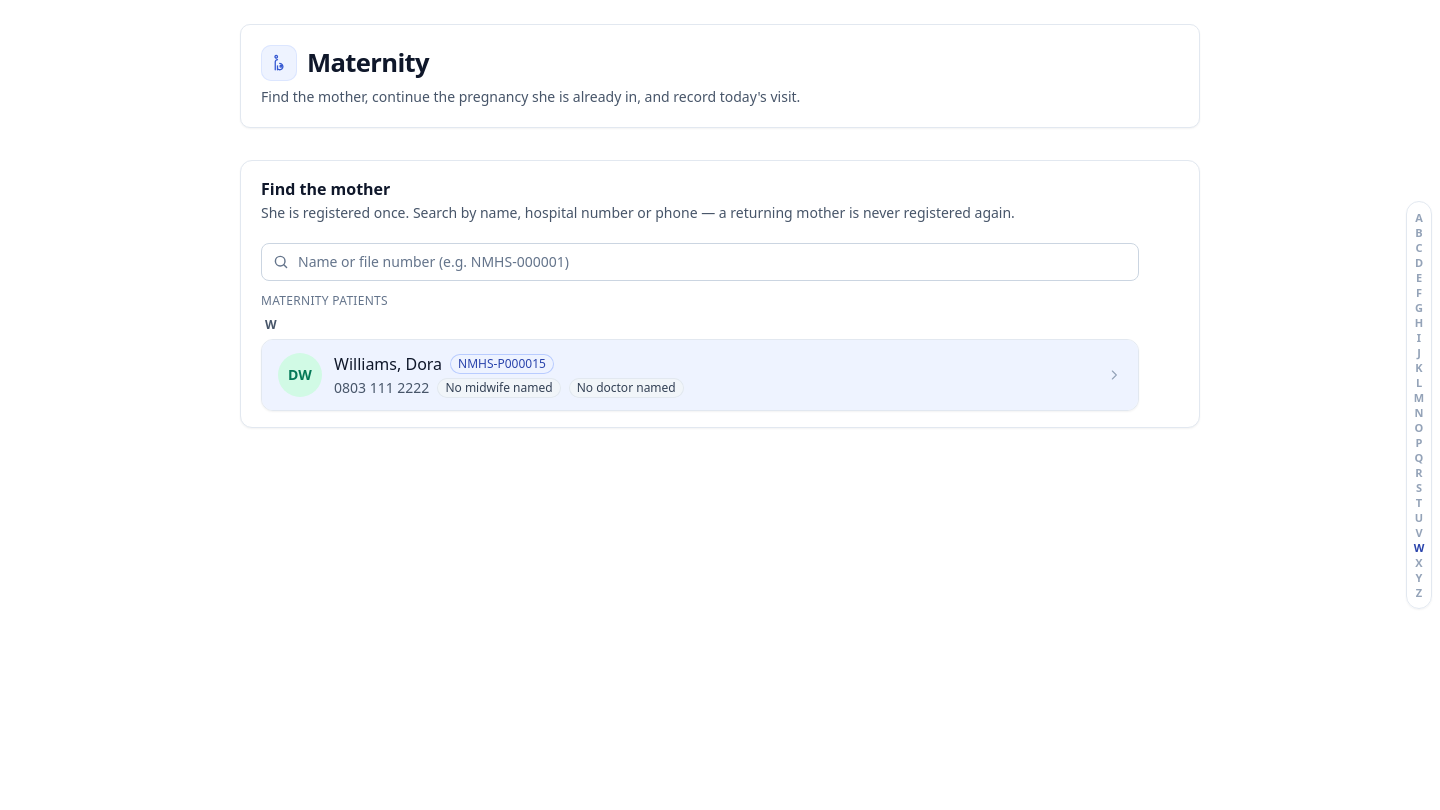
Test case: who is offered the amendment action › the person who entered the record
Click the option "Williams, Dora".
click(300, 375)  # box [262,340,1138,410]
(page scrolled)
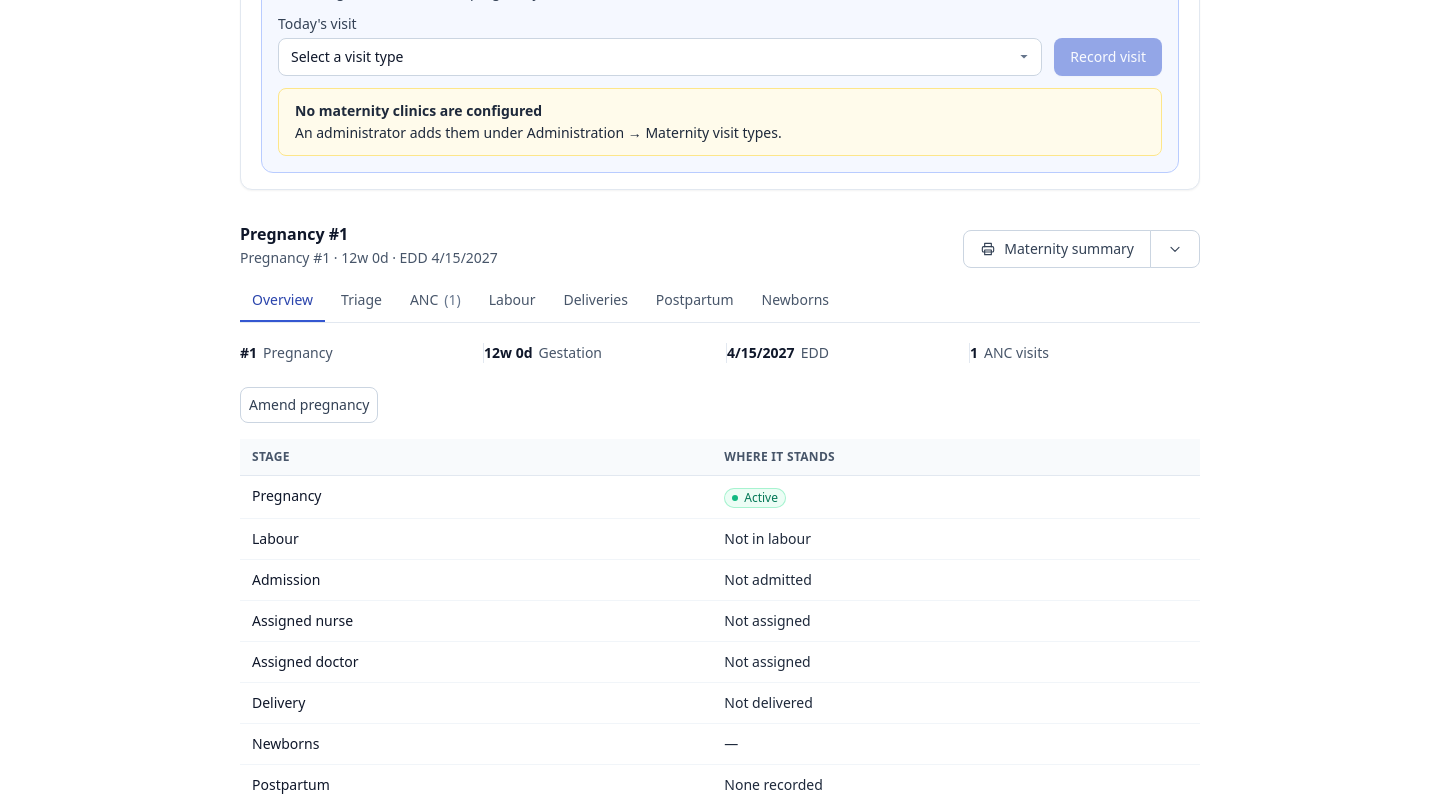
Now the button "Amend pregnancy" is shown, box [240,387,378,423]
